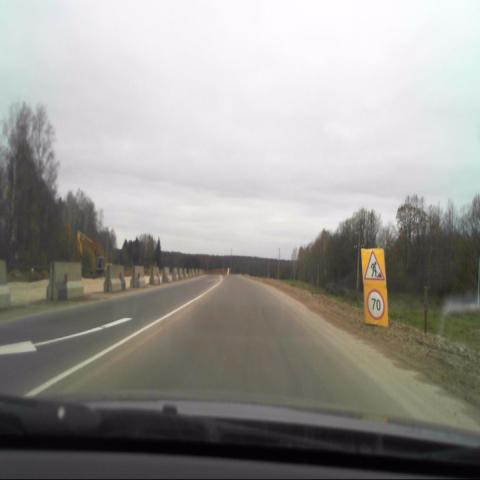1_25: (362, 249, 385, 280)
3_24: (365, 288, 385, 321)
